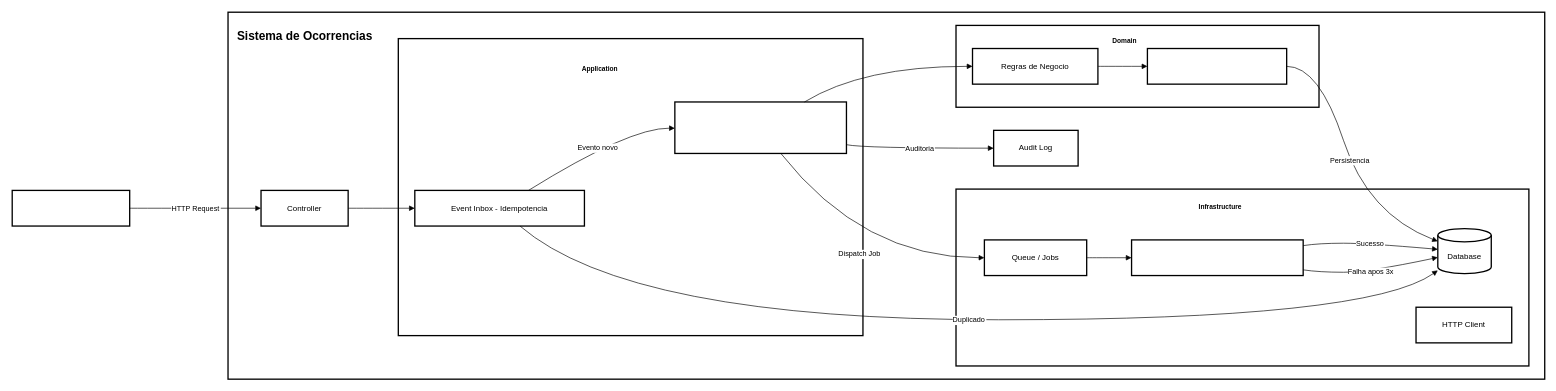
Image size: 1556x391. Some labels were removed from this diagram. Here are the shapes that lost their labels. From the top down, the centre of each, then its label:
At (x=1216, y=66): "Aggregates / Entities".
At (x=760, y=127): "Application Service / Use Cases".
At (x=70, y=207): "Sistema Terceiro".
At (x=1217, y=257): "Retry Handler - 3 tentativas".
